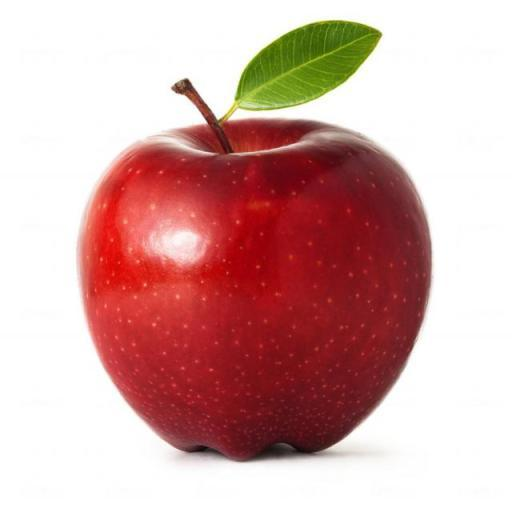fruit: (79, 118, 428, 457), (192, 96, 197, 99), (211, 120, 214, 122)
